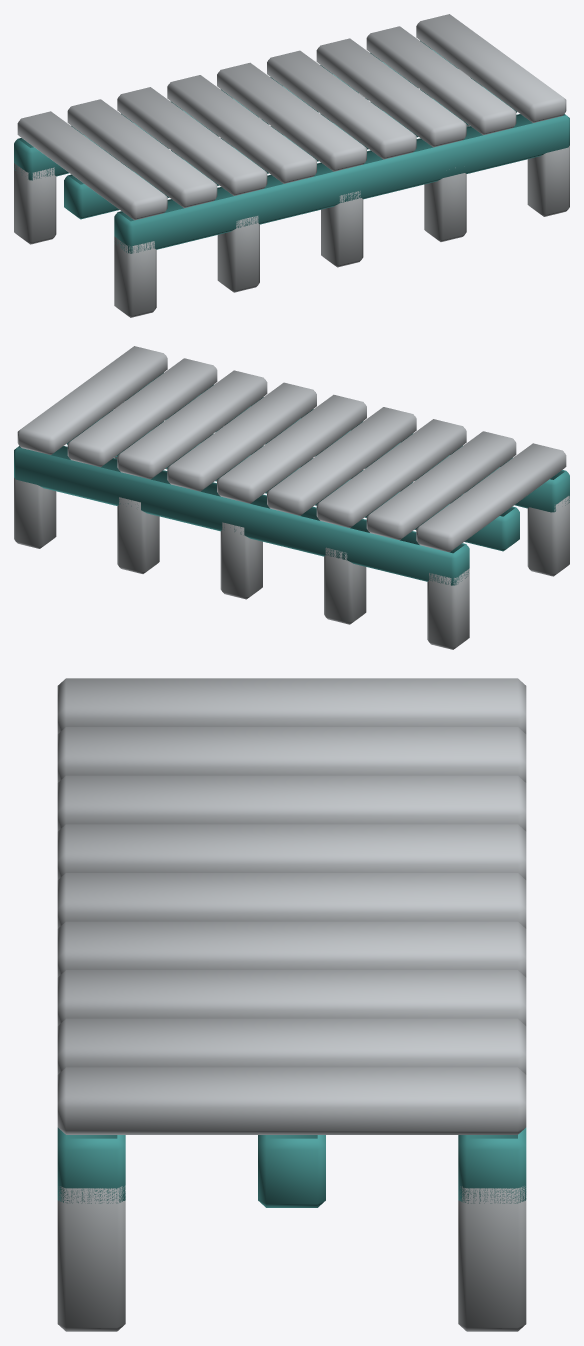
File: SM_DunnageRack_12.glb
3 renders of one model, top to bottom at view 1: azimuth 30°, elevation 25°; view 2: azimuth 150°, elevation 25°; view 3: azimuth 270°, elevation 25°, orthographic. The views are drawn at different scales.
Parts seen in each view (by area): view 1: SM_DunnageRack_12; view 2: SM_DunnageRack_12; view 3: SM_DunnageRack_12.
Part boxes in pixels (left/top/right/bottom): SM_DunnageRack_12: left=14, top=14, right=569, bottom=317; SM_DunnageRack_12: left=14, top=346, right=569, bottom=649; SM_DunnageRack_12: left=57, top=678, right=526, bottom=1331.
Size of the model in its own units: 1.2 by 0.3 by 0.55.
Materials: 1 (1 with a texture image).
